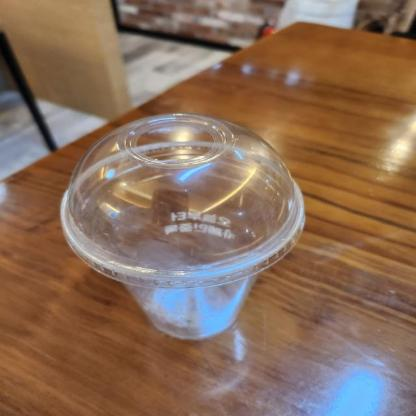Plastic Cup: (62, 110, 306, 338)
